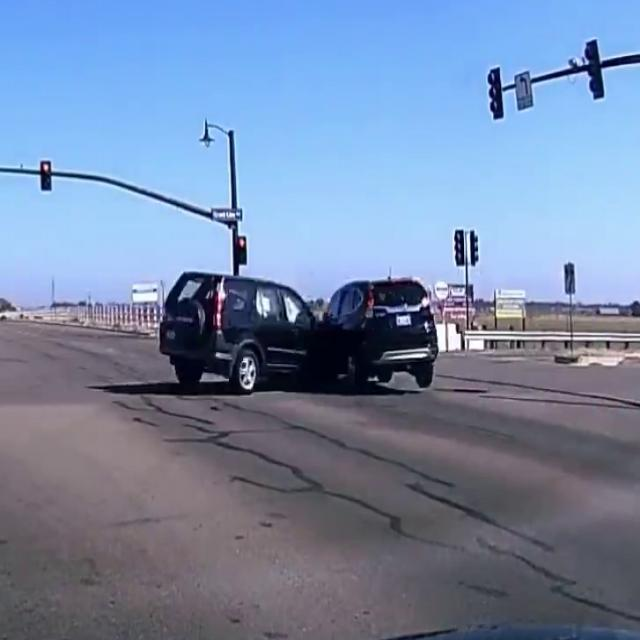accident: (174, 270, 447, 406)
